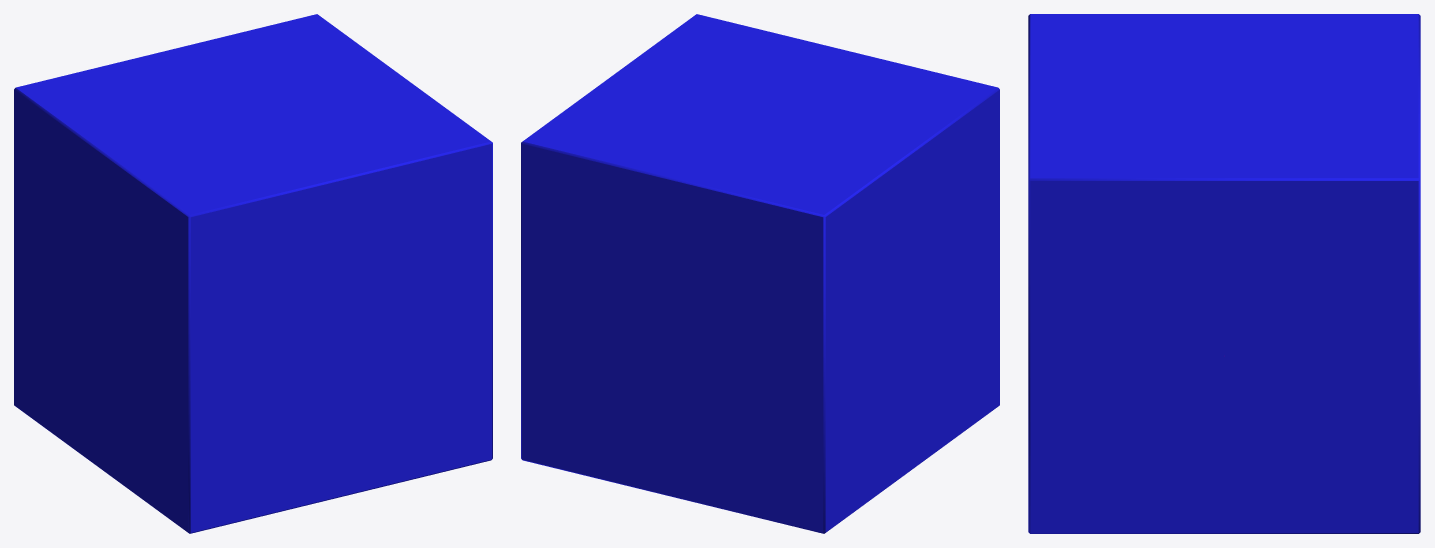
Rendered from Tesseract_Anim.fbx.
3 renders of one model, left to right at view 1: azimuth 30°, elevation 25°; view 2: azimuth 150°, elevation 25°; view 3: azimuth 270°, elevation 25°, orthographic. The views are drawn at different scales.
Visible parts, largest first — view 1: Geo_Shell; view 2: Geo_Shell; view 3: Geo_Shell.
Boxes of the visible parts, x1=… form: Geo_Shell: x1=14, y1=14, x2=492, y2=533; Geo_Shell: x1=521, y1=14, x2=999, y2=533; Geo_Shell: x1=1028, y1=14, x2=1420, y2=533.
Bounding box in the file's own units: 0.508 × 0.508 × 0.508.
